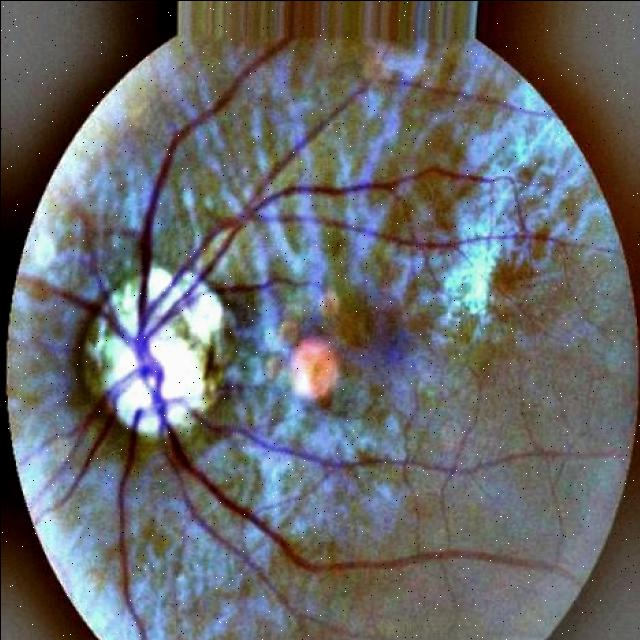Macula: (338, 301, 422, 393)
Nerves: (155, 377, 564, 573), (127, 67, 254, 374), (116, 392, 156, 640)
Optic Disk: (73, 253, 237, 455)
